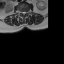CCS_normal: (23, 10, 24, 17)
LFS_stenosis: (26, 10, 27, 14)
LLS_normal: (24, 10, 26, 15)
RFS_normal: (20, 9, 21, 14)
RLS_normal: (21, 10, 23, 16)
